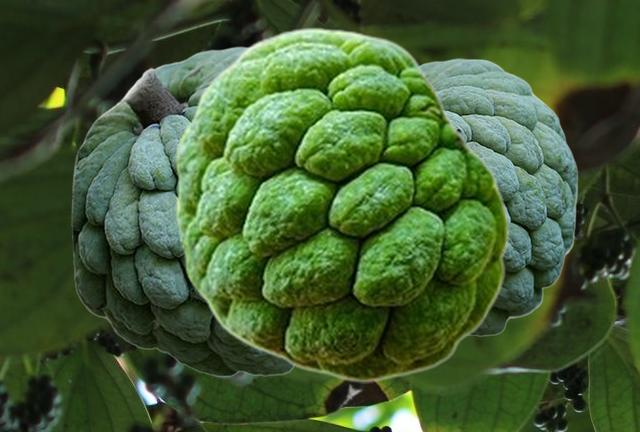atis: (175, 26, 509, 382), (71, 46, 294, 376), (421, 58, 577, 336)
